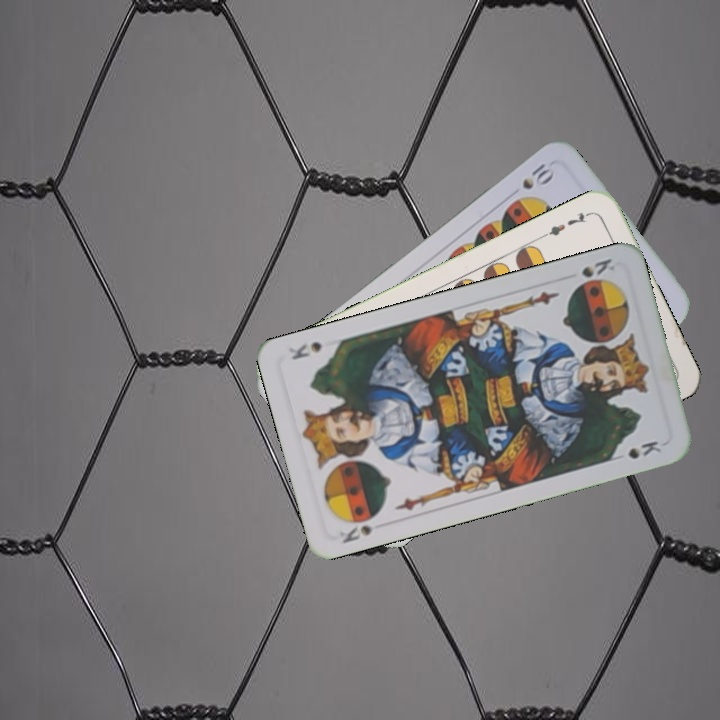E7: (539, 207, 594, 240)
S10: (518, 159, 557, 192)
SK: (336, 509, 383, 546), (577, 254, 618, 280)
